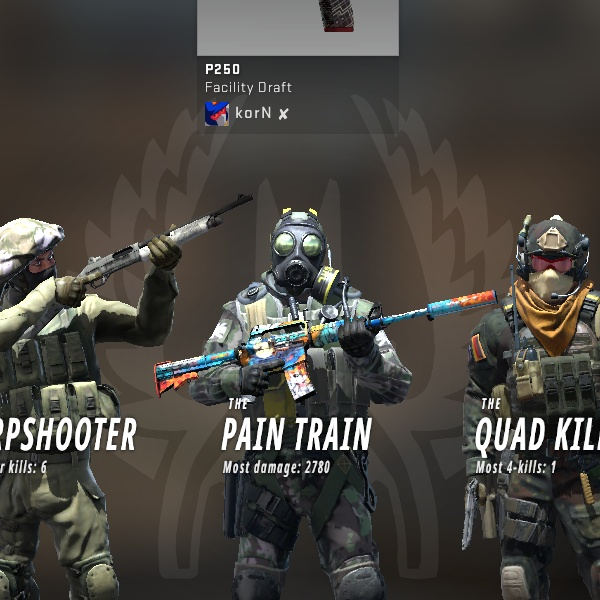ct_body: (175, 211, 388, 595), (425, 183, 587, 600), (0, 182, 151, 600)
ct_head: (498, 201, 597, 314)
